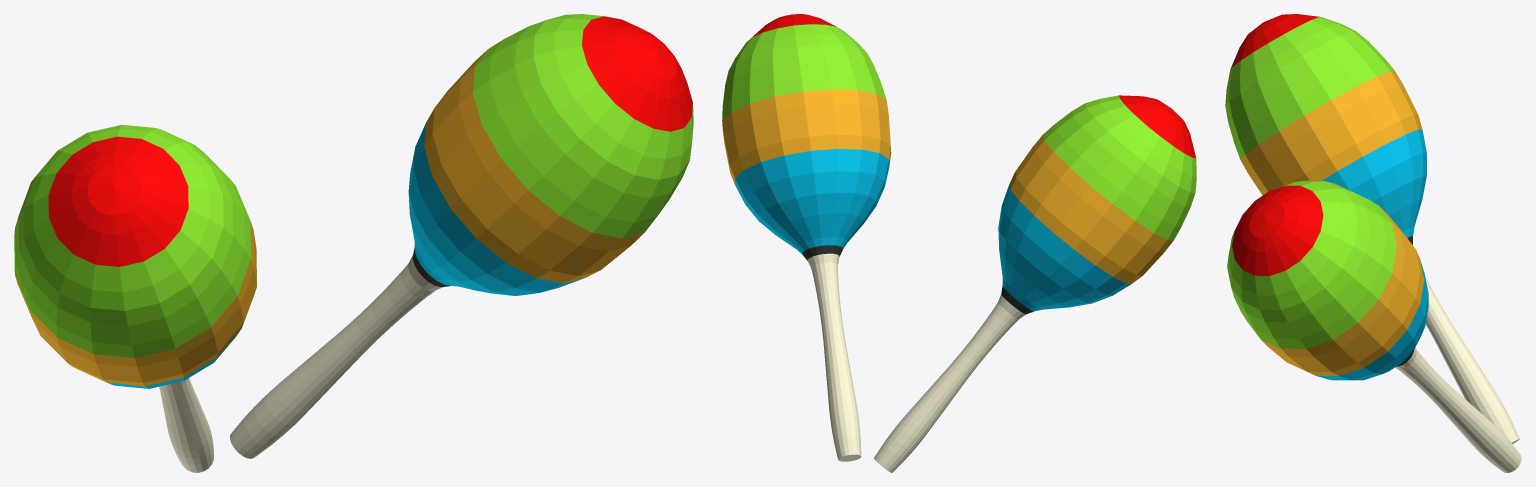
File: Maracas.gltf
3 renders of one model, left to right at view 1: azimuth 30°, elevation 25°; view 2: azimuth 150°, elevation 25°; view 3: azimuth 270°, elevation 25°, orthographic. The views are drawn at different scales.
Visible parts, largest first — view 1: node-0; view 2: node-0; view 3: node-0.
Part boxes in pixels (left/top/right/bottom): node-0: left=14, top=14, right=693, bottom=472; node-0: left=722, top=14, right=1196, bottom=472; node-0: left=1225, top=14, right=1521, bottom=472.
Size of the model in its own units: 664570 by 471056 by 355878.
